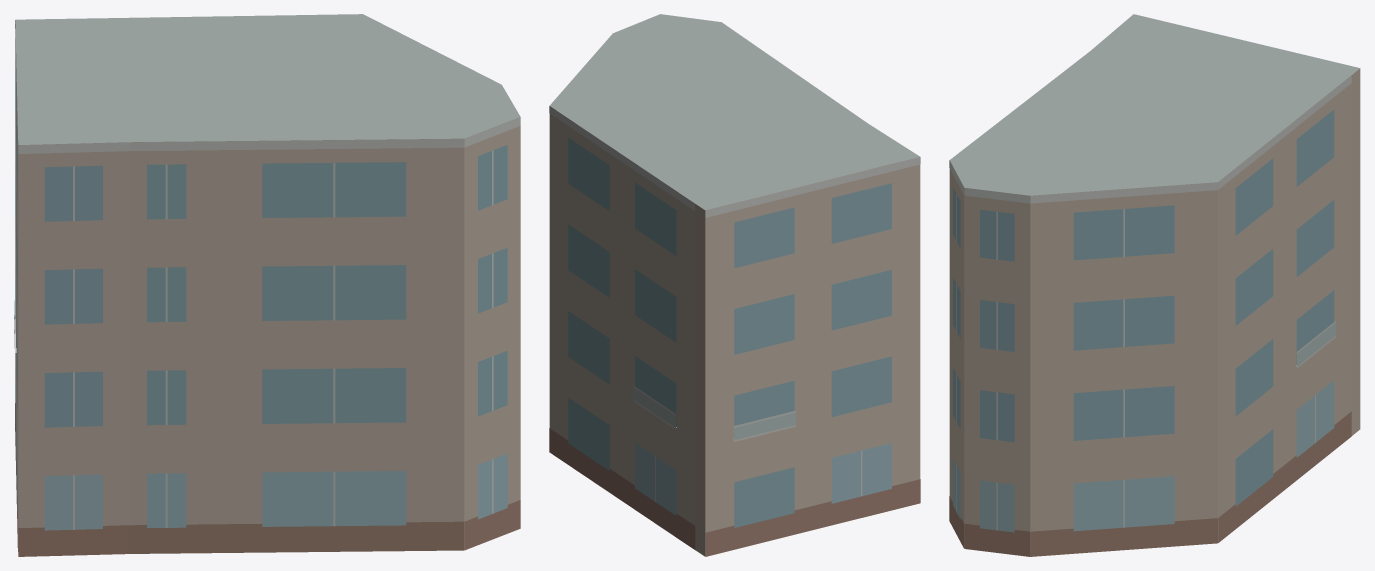
The model's file is survey-upis-32905670.glb.
3 renders of one model, left to right at view 1: azimuth 30°, elevation 25°; view 2: azimuth 150°, elevation 25°; view 3: azimuth 270°, elevation 25°, orthographic. The views are drawn at different scales.
Visible parts, largest first — view 1: survey-upis-32905670.tmp; view 2: survey-upis-32905670.tmp; view 3: survey-upis-32905670.tmp.
Part boxes in pixels (x1=…): survey-upis-32905670.tmp: x1=14, y1=14, x2=520, y2=556; survey-upis-32905670.tmp: x1=549, y1=14, x2=920, y2=556; survey-upis-32905670.tmp: x1=949, y1=14, x2=1360, y2=556.
Bounding box in the file's own units: 12.1 × 11.2 × 11.56.
